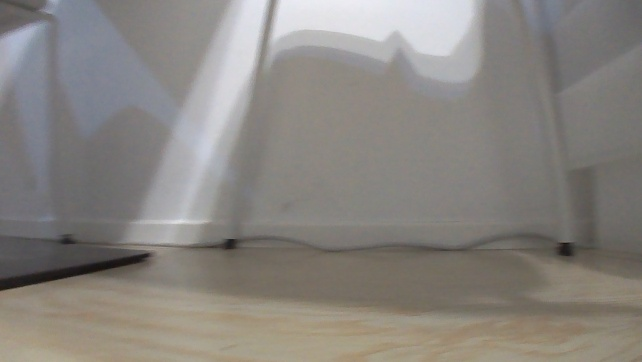blanket: (0, 230, 154, 292)
